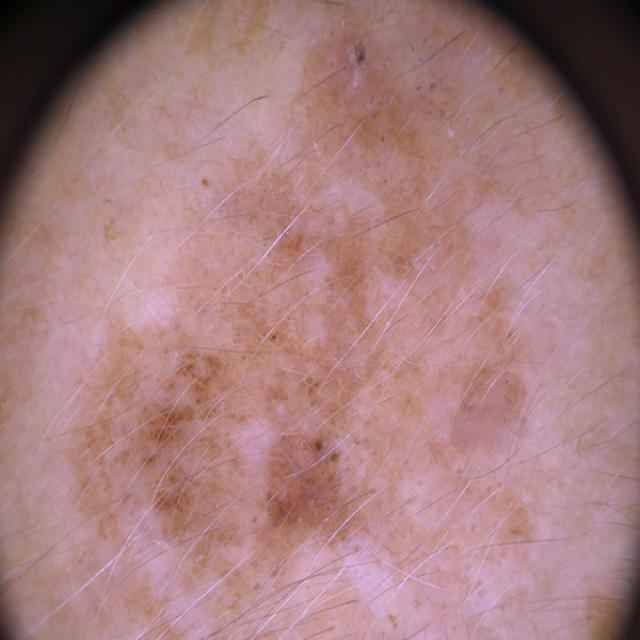Skin-Cancer Pigmented benign keratosis: (18, 6, 638, 640)
